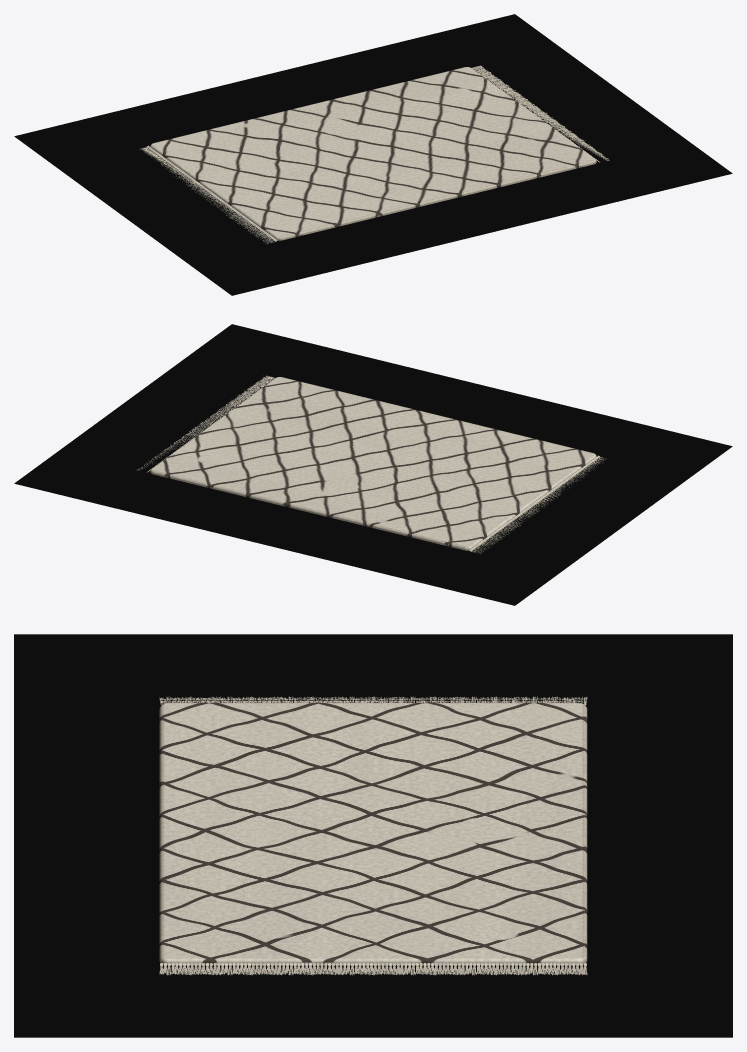
The model's file is rug.glb.
3 renders of one model, top to bottom at view 1: azimuth 30°, elevation 25°; view 2: azimuth 150°, elevation 25°; view 3: azimuth 270°, elevation 25°, orthographic. The views are drawn at different scales.
Parts seen in each view (by area): view 1: rug_Shadow, rug_LOD0; view 2: rug_Shadow, rug_LOD0; view 3: rug_Shadow, rug_LOD0.
Boxes of the visible parts, x1,y1,x2,y2 form: rug_Shadow: (14,14,732,295); rug_LOD0: (139,65,609,243); rug_Shadow: (14,324,732,605); rug_LOD0: (137,375,605,553); rug_Shadow: (14,634,732,1037); rug_LOD0: (159,696,587,975).
Size of what is drawn, in the model's own units: 3.12 by 0.02 by 2.35.
Materials: 3 (3 with a texture image).
